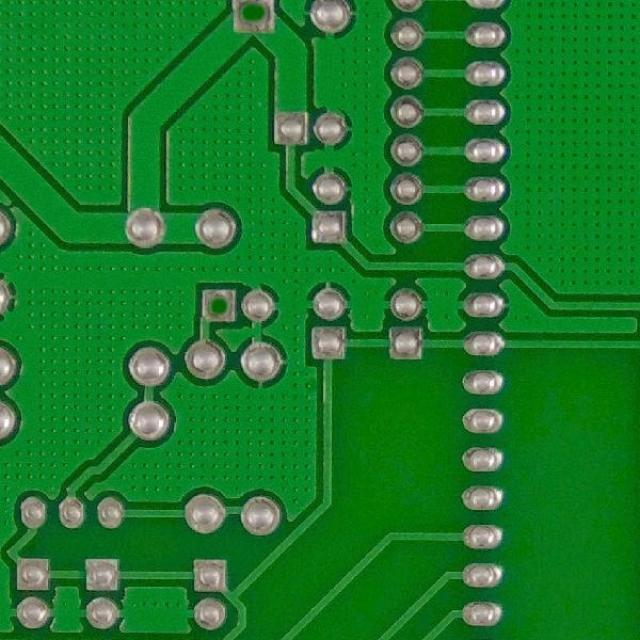missing_hole: (203, 284, 239, 325), (232, 1, 282, 29)
